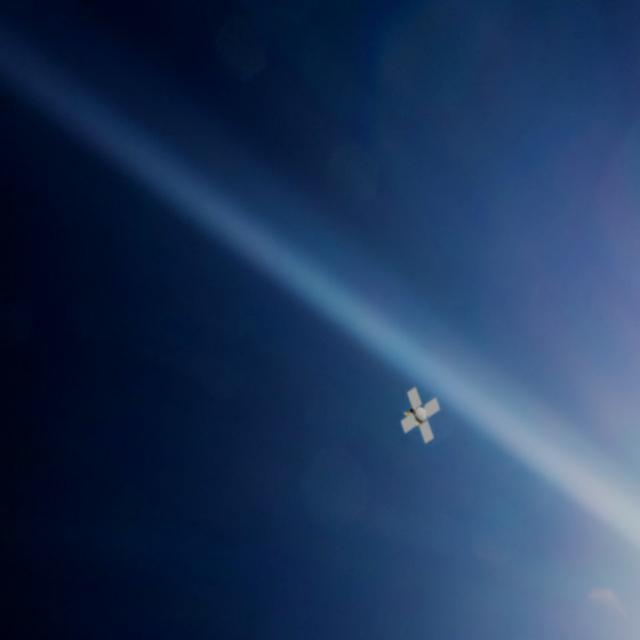satellite: (388, 383, 450, 449)
